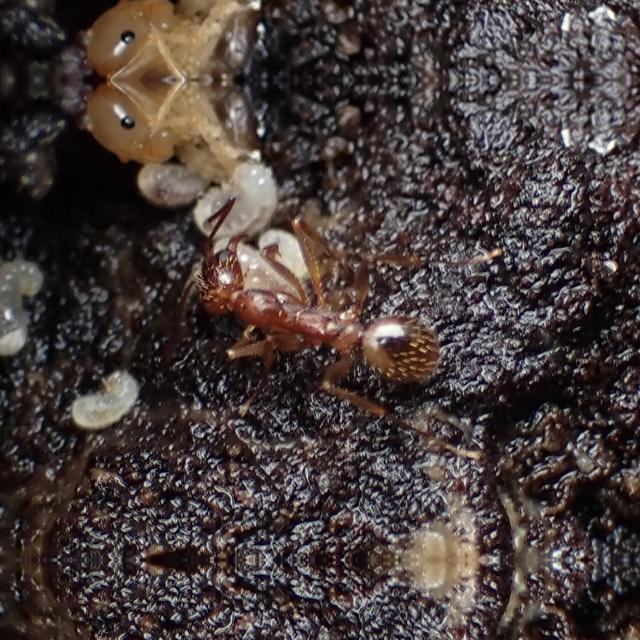Apheanogaster: (139, 198, 479, 422)
